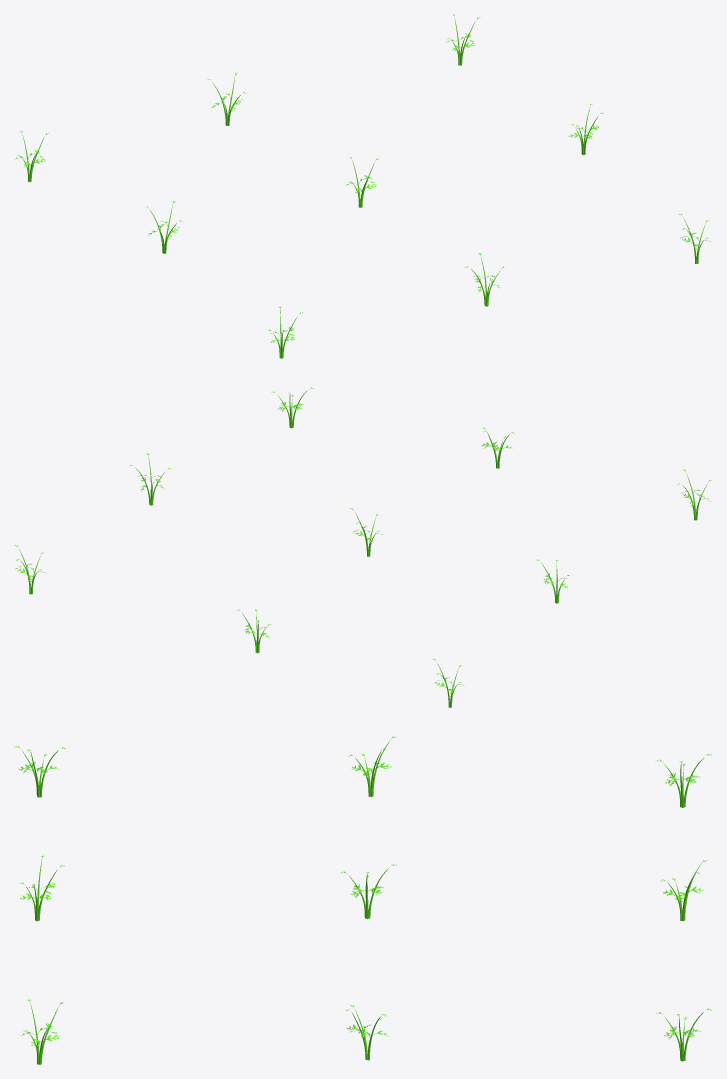
The model's file is Carrot_lvl1.fbx.
3 views of the same model, one above another, from view 1: azimuth 30°, elevation 25°; view 2: azimuth 150°, elevation 25°; view 3: azimuth 270°, elevation 25° (orthographic). The views are drawn at different scales.
Visible parts, largest first — view 1: Carrot_lvl1_LOD0; view 2: Carrot_lvl1_LOD0; view 3: Carrot_lvl1_LOD0.
Boxes of the visible parts, bbox=[...] form: Carrot_lvl1_LOD0: bbox=[15, 14, 710, 358]; Carrot_lvl1_LOD0: bbox=[14, 387, 711, 707]; Carrot_lvl1_LOD0: bbox=[14, 736, 712, 1064].
Size of what is drawn, in the model's own units: 87.97 by 86.05 by 10.45.
